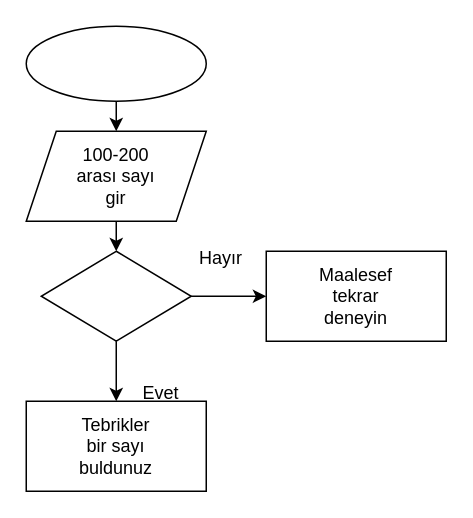
Image size: 473x518. Some labels were removed from this diagram. Each missing label, with the centre of its shape:
"Başla" belongs at point 115,63.
"sayi%3=0" belongs at point 115,295.
